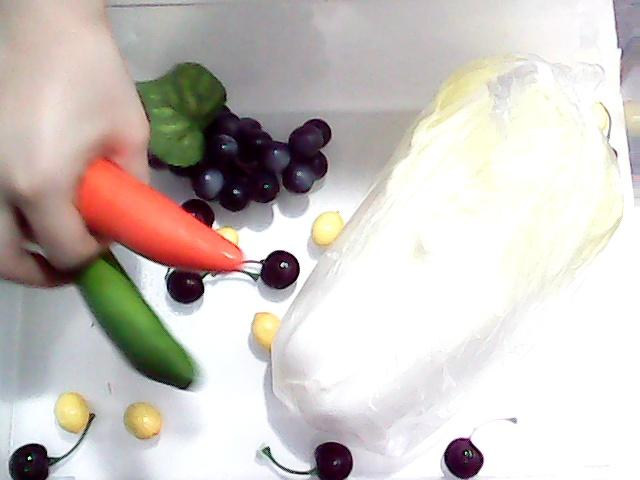carrot: (72, 149, 245, 273)
grape: (135, 60, 333, 200)
napa cabbage: (269, 57, 631, 448)
pepper: (36, 240, 208, 402)
